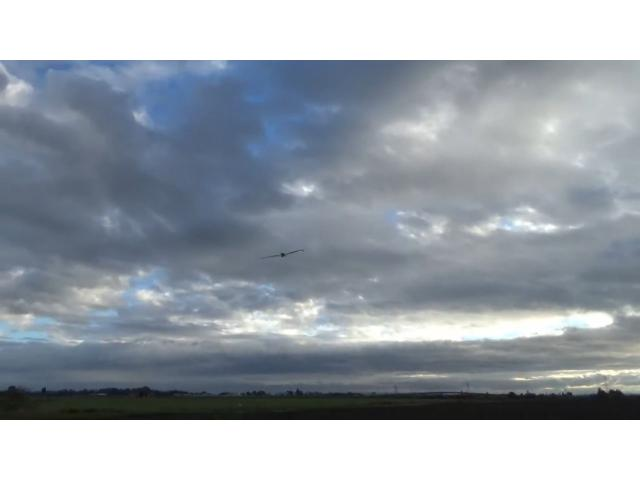Anti-Drone: (261, 248, 305, 260)
